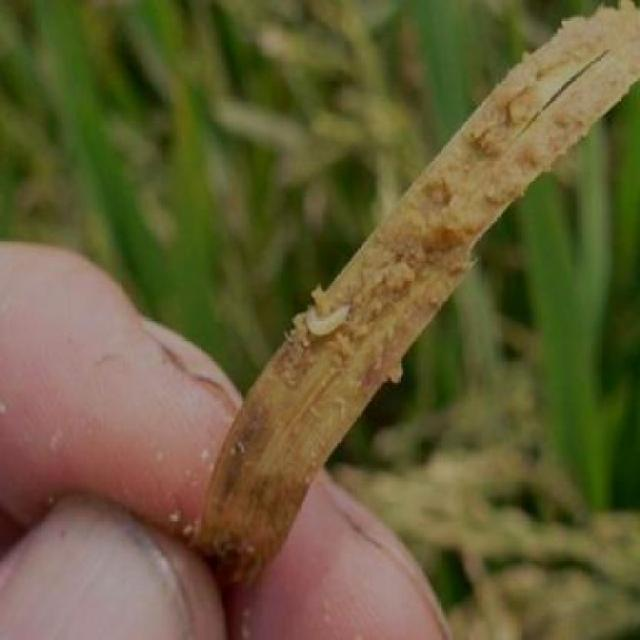whorl-maggot: (302, 297, 358, 345)
